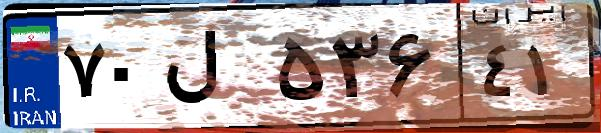0: (110, 28, 158, 98)
1: (525, 38, 570, 115)
3: (330, 28, 385, 110)
4: (475, 38, 525, 113)
5: (270, 28, 330, 110)
6: (385, 28, 445, 110)
7: (57, 26, 110, 100)
ل: (158, 20, 270, 120)
